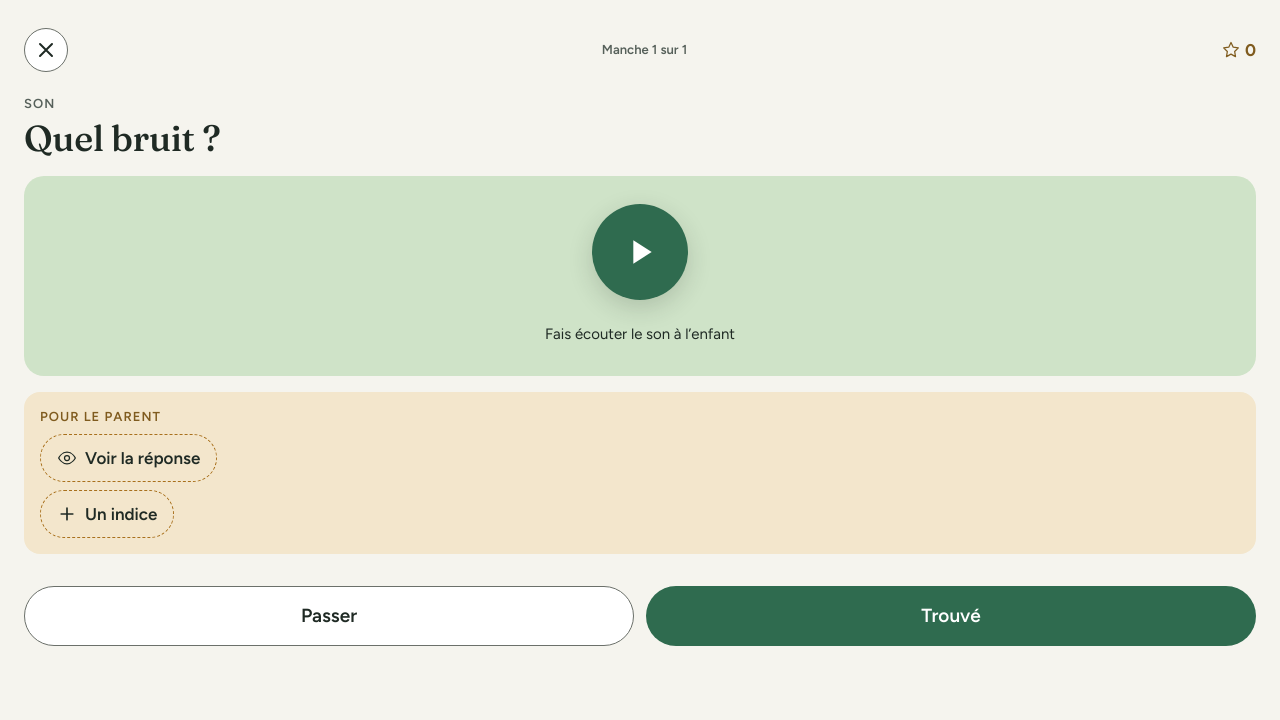
son d’une carte créée sur Android (#141) › son illisible : le parent voit un message et peut réessayer
Click the button named "Écouter le son": (640, 252) [592,204,688,300]
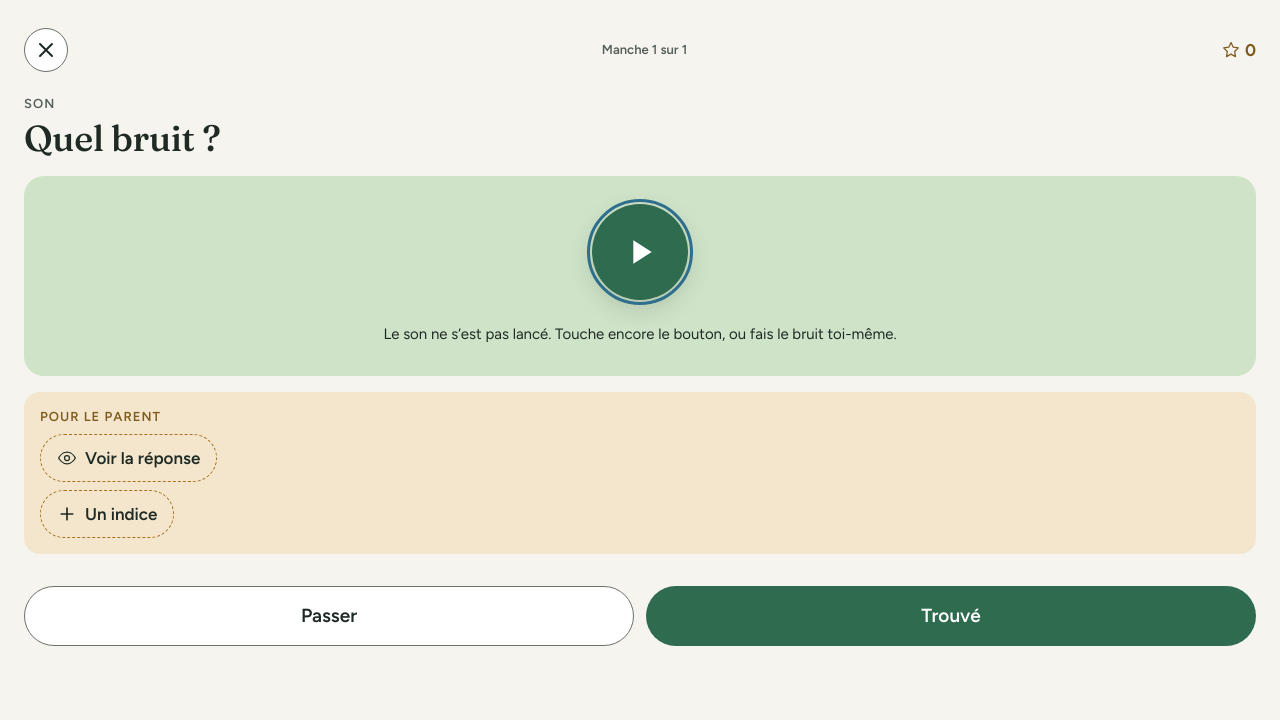
Now the text "Le son ne s’est pas lancé. Touche encore le bouton, ou fais le bruit toi-même." is shown, box [383,320,896,348]
